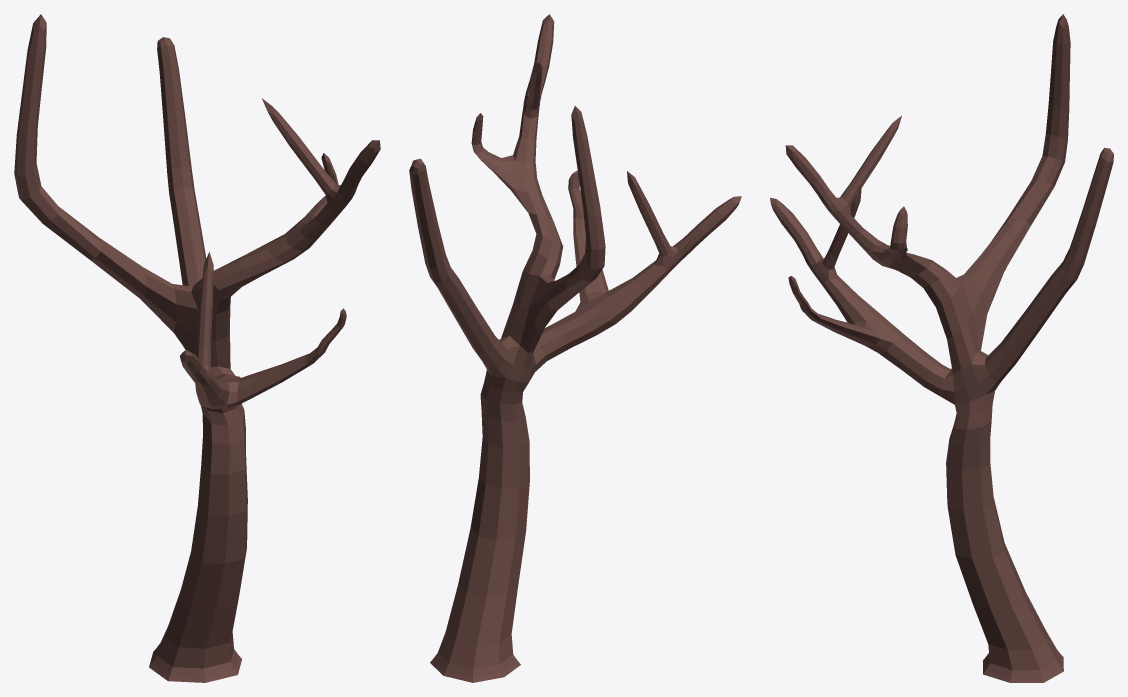
Rendered from commontree_dead_5.glb.
3 views of the same model, side by side, from view 1: azimuth 30°, elevation 25°; view 2: azimuth 150°, elevation 25°; view 3: azimuth 270°, elevation 25° (orthographic). The views are drawn at different scales.
Visible parts, largest first — view 1: CommonTree_Dead_5; view 2: CommonTree_Dead_5; view 3: CommonTree_Dead_5.
Boxes of the visible parts, x1,y1,x2,y2 form: CommonTree_Dead_5: [14, 14, 380, 682]; CommonTree_Dead_5: [409, 14, 741, 682]; CommonTree_Dead_5: [770, 14, 1113, 682].
Bounding box in the file's own units: 2.03 × 5.51 × 2.88.
